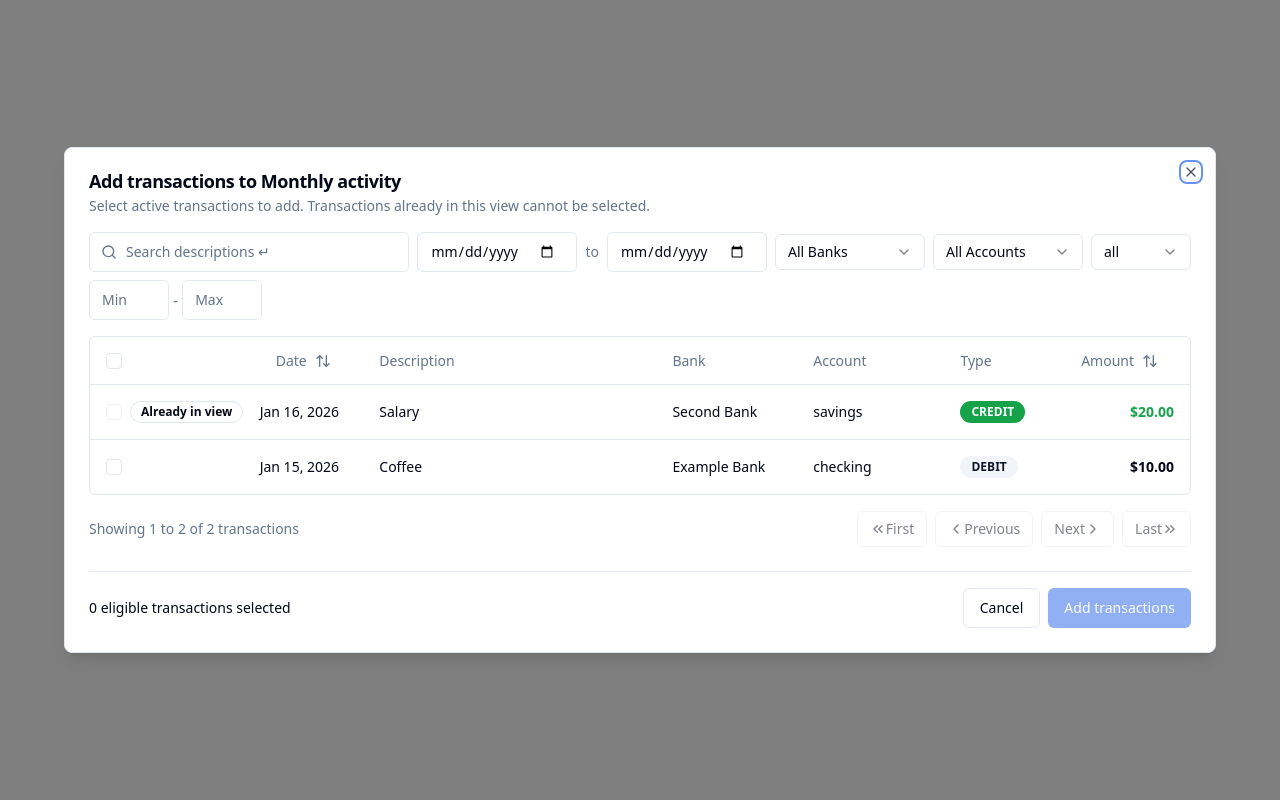
Scenario: AddViewTransactionsDialog › keeps an ordinary failure and the reviewed selection available for retry
Click the checkbox named "Select transaction 1 to add to Monthly activity".
click(114, 467)  # box [106, 459, 122, 475]
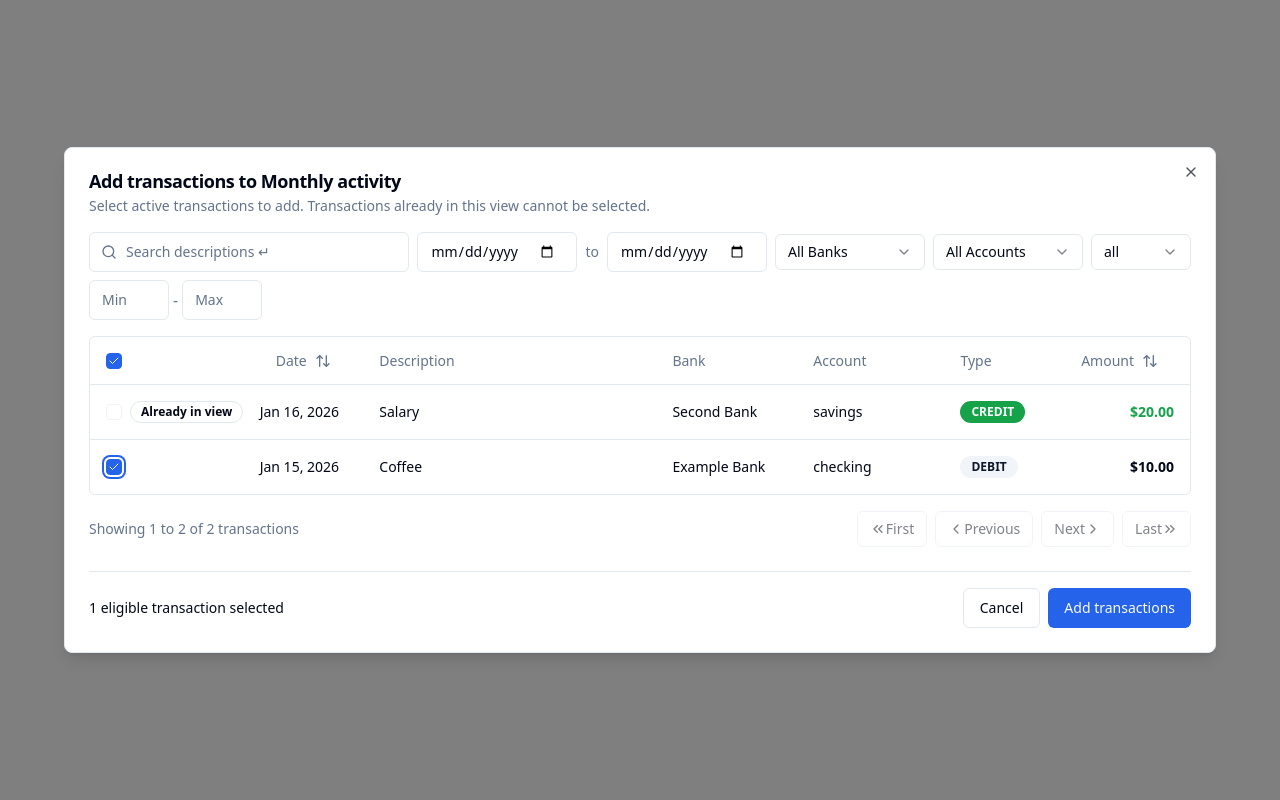
Click the button "Add transactions".
click(1120, 608)  # box [1048, 588, 1191, 628]
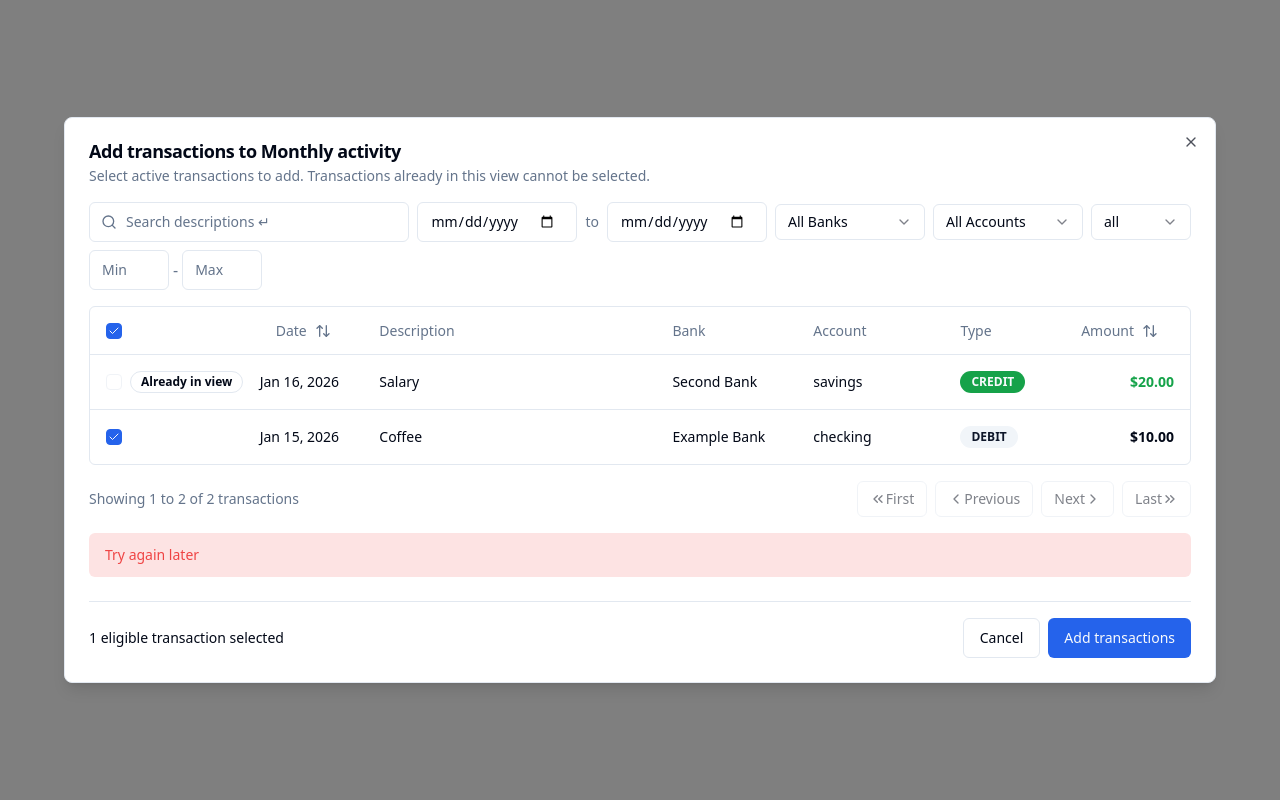
Check: the checkbox named "Select transaction 1 to add to Monthly activity" is checked, box [106, 429, 122, 445]
Check: the text "1 eligible transaction selected" is shown, box [89, 628, 284, 648]
Check: the message reads "Try again later", box [105, 545, 199, 564]
